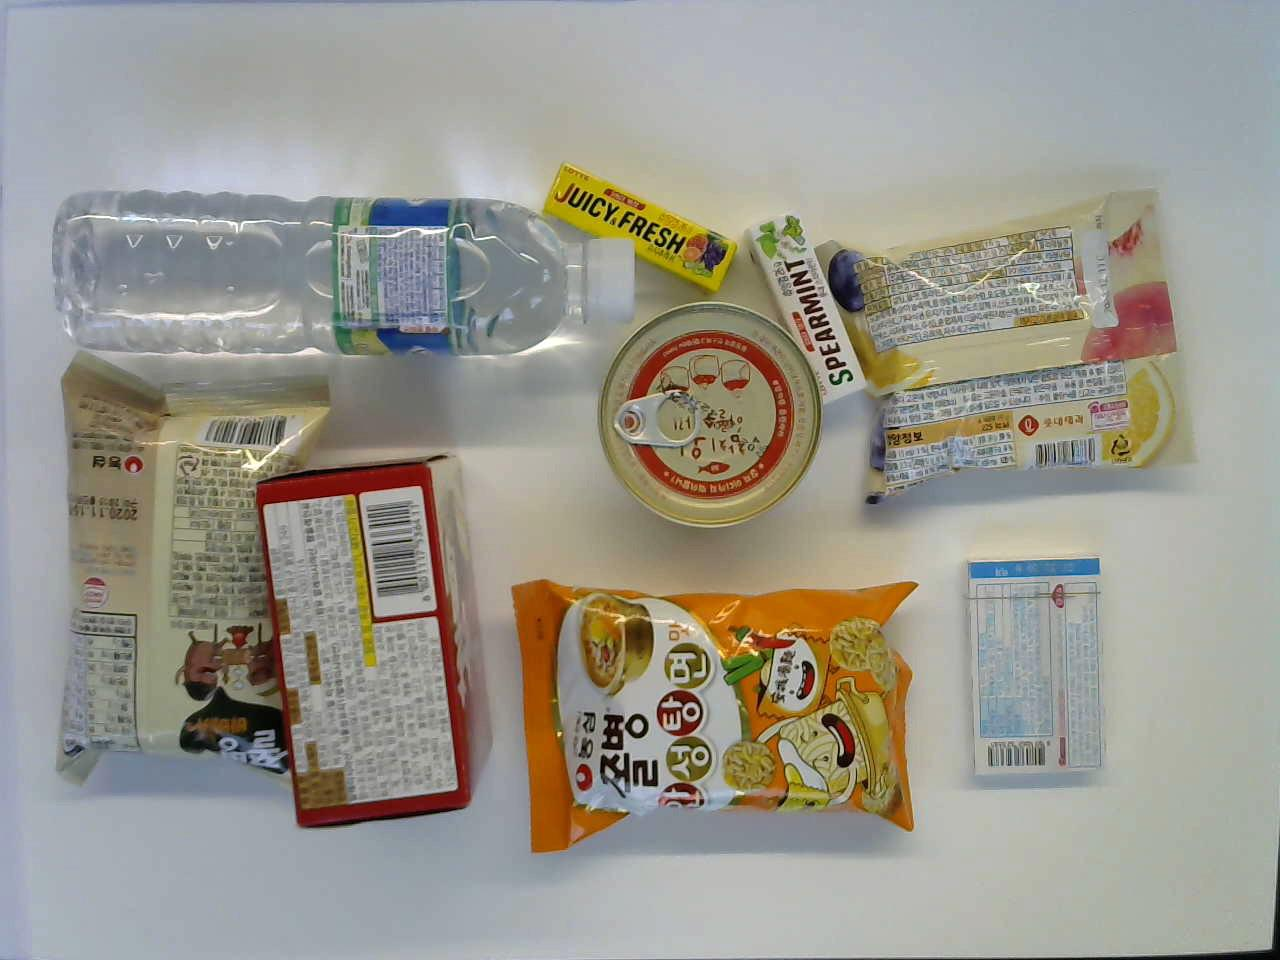ID_gum: (949, 550, 1112, 791)
chocopie: (255, 440, 503, 847)
gumi_gumi: (812, 173, 1205, 526)
jjolbyung_noodle: (510, 562, 930, 861)
jjolbyung_ori: (47, 349, 318, 805)
juicyfresh: (539, 150, 735, 299)
samdasu: (46, 184, 638, 368)
spearmint: (733, 198, 866, 409)
tuna: (593, 295, 823, 526)
